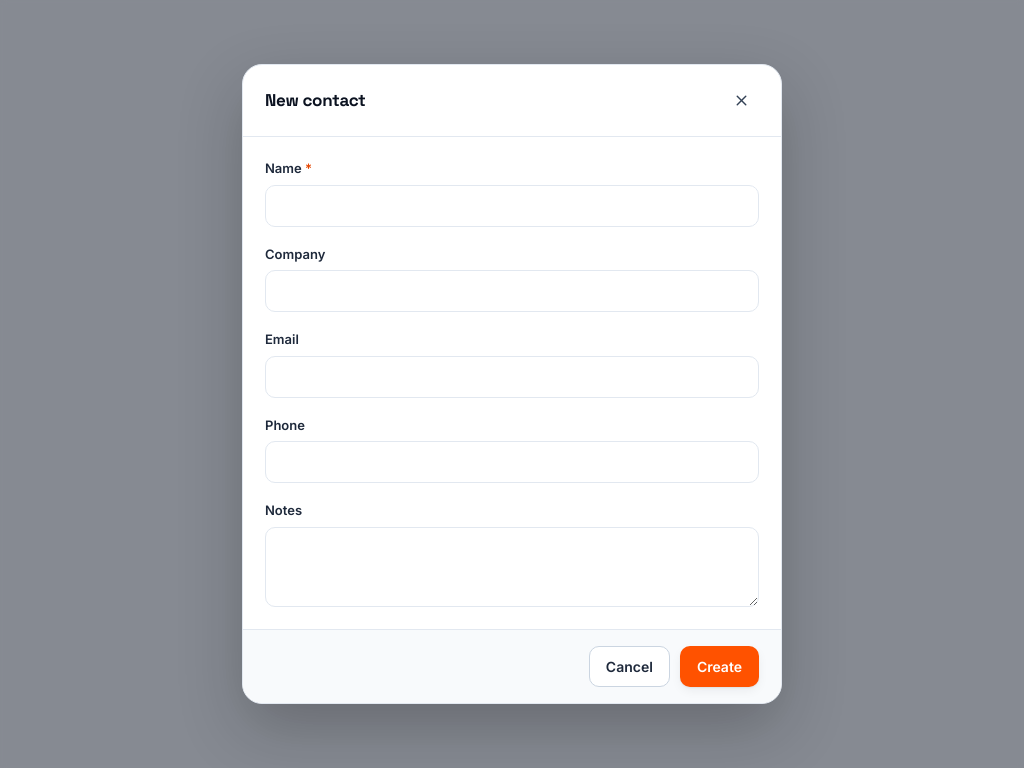
Test case: NewContactModal › rejects a malformed email with an inline error
In the field labelled "Name *": {"x": 512, "y": 206} [265,185,759,227], type "Pat"
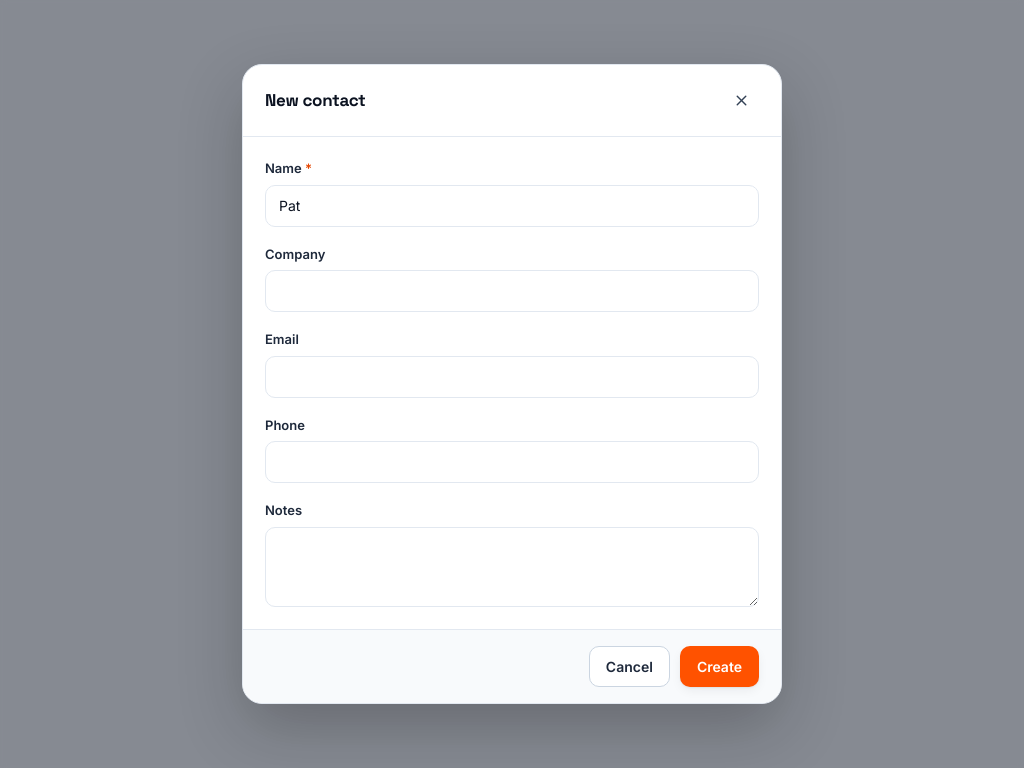
In the field labelled "Email": {"x": 512, "y": 377} [265,356,759,398], type "not-an-email"
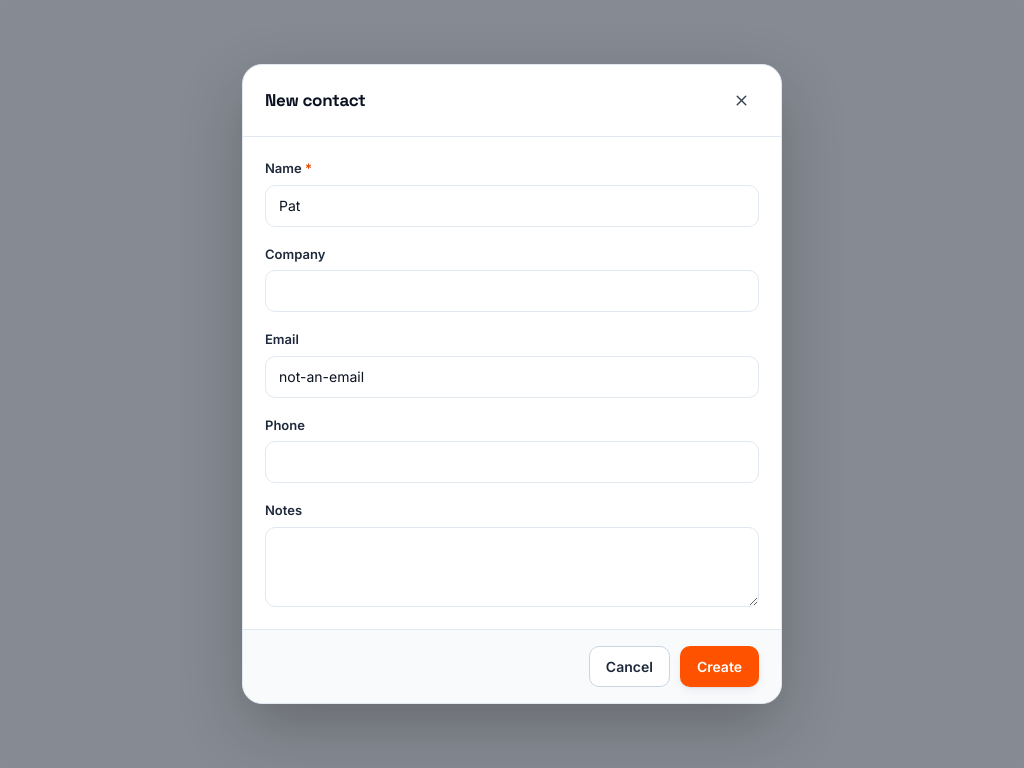
Click the button "Create": {"x": 719, "y": 666} [680,646,759,687]
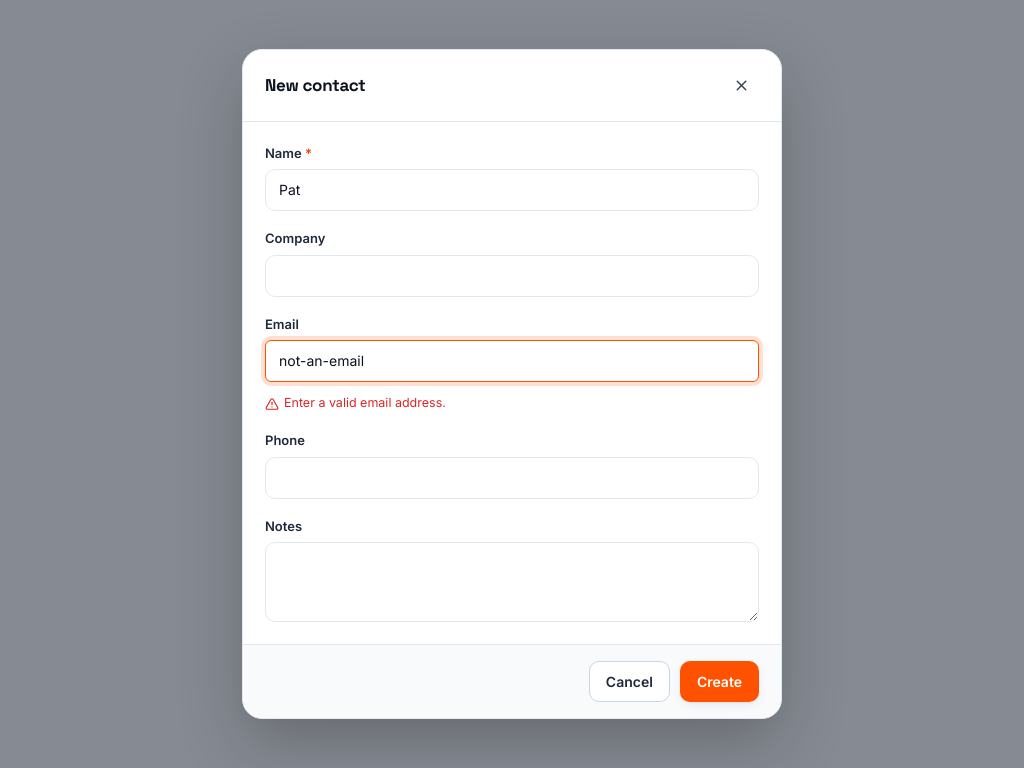
Check: the text "Enter a valid email address." is shown, box [265,395,446,411]
